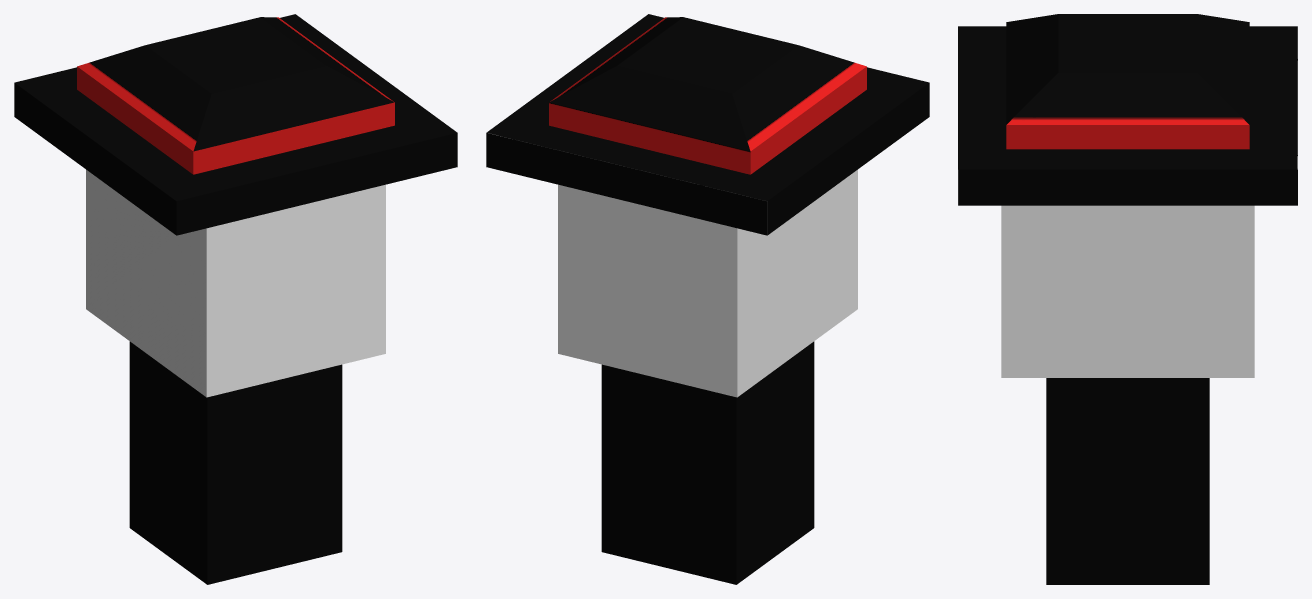
The model's file is evil tony.fbx.
The picture shows the model from 3 angles, left to right: view 1: azimuth 30°, elevation 25°; view 2: azimuth 150°, elevation 25°; view 3: azimuth 270°, elevation 25°; orthographic projection. The views are drawn at different scales.
Parts seen in each view (by area): view 1: pasted__pCube4; view 2: pasted__pCube4; view 3: pasted__pCube4.
Part boxes in pixels (x1,y1,x2,y2): pasted__pCube4: (14, 14, 457, 584); pasted__pCube4: (486, 14, 929, 584); pasted__pCube4: (958, 14, 1297, 584).
Bounding box in the file's own units: 4.39 × 7.23 × 4.39.
